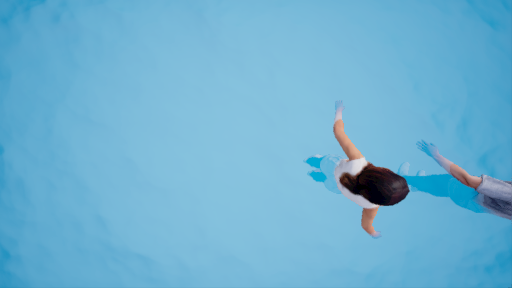person: (304, 101, 406, 236), (402, 135, 512, 225)
